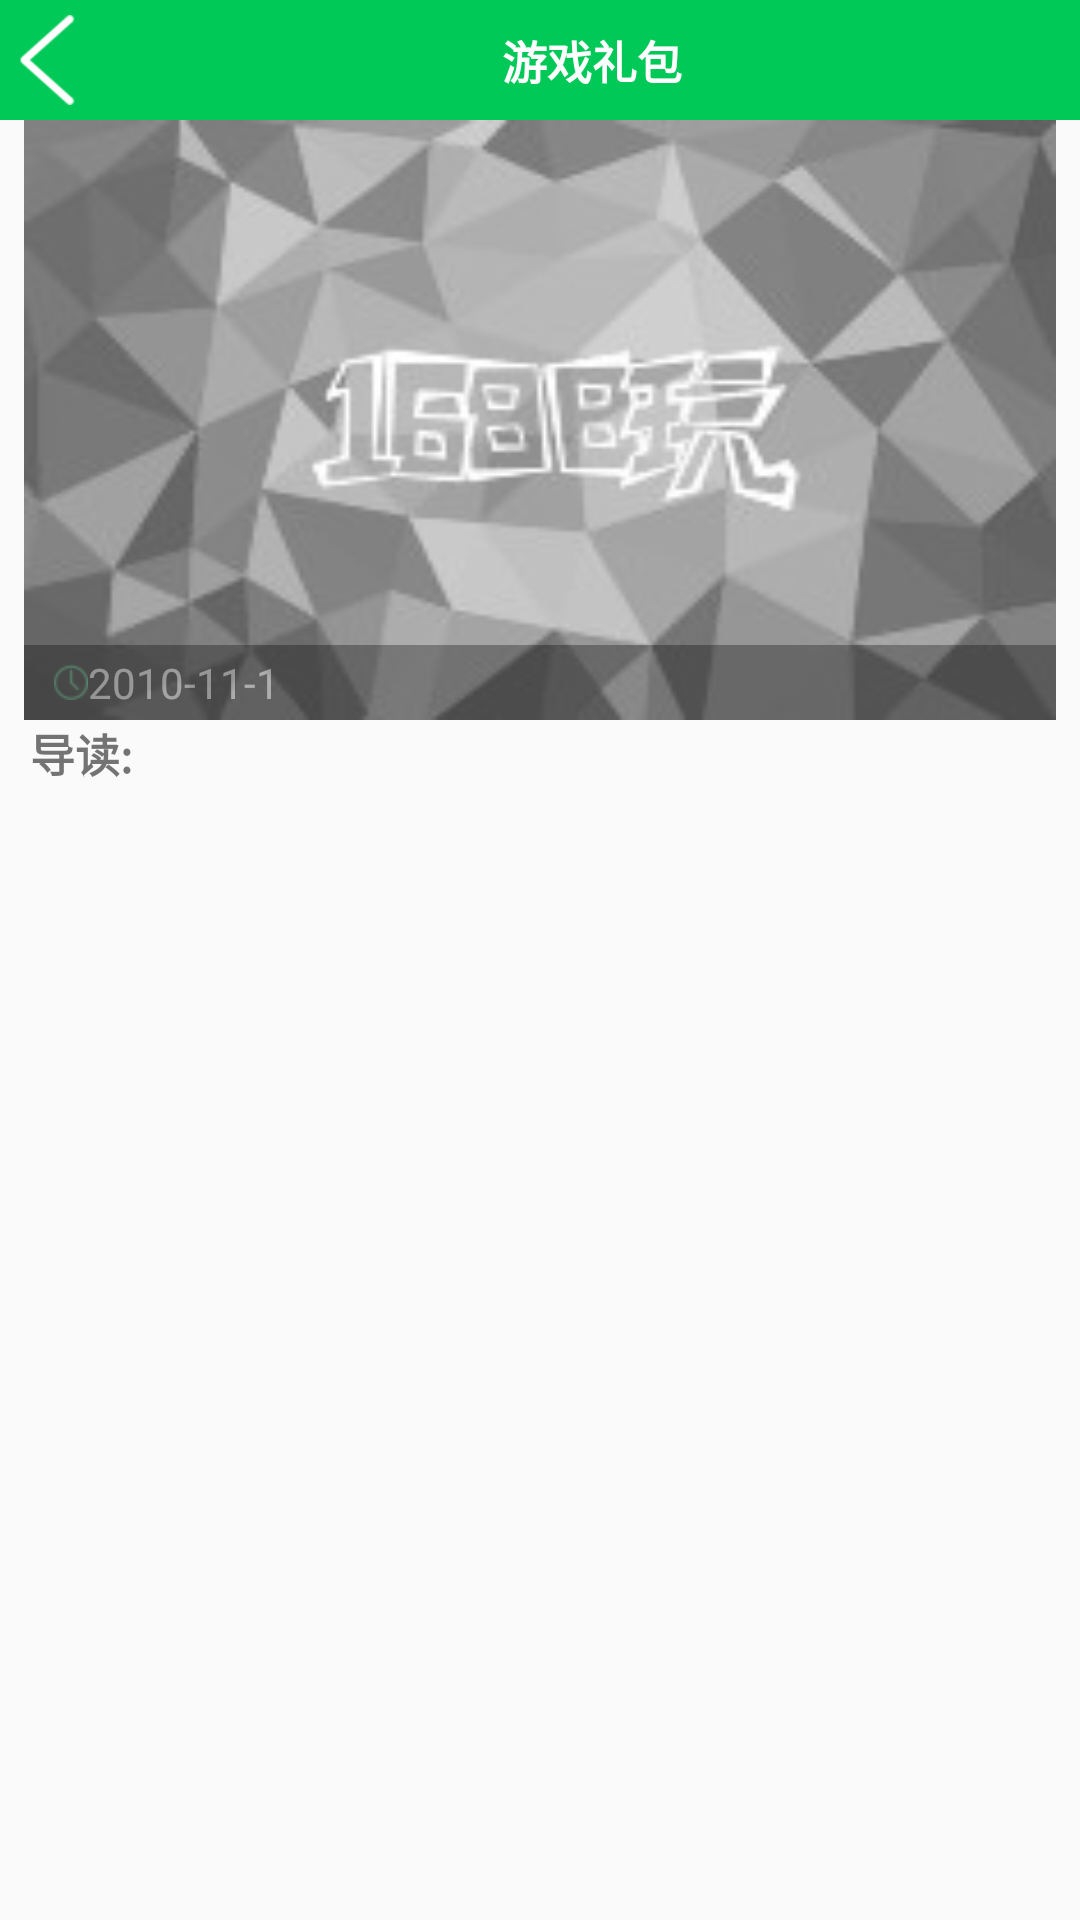

Where to tap for icons on this 1080 x 1920 app screen, as [x,y]:
back: [47,60]
